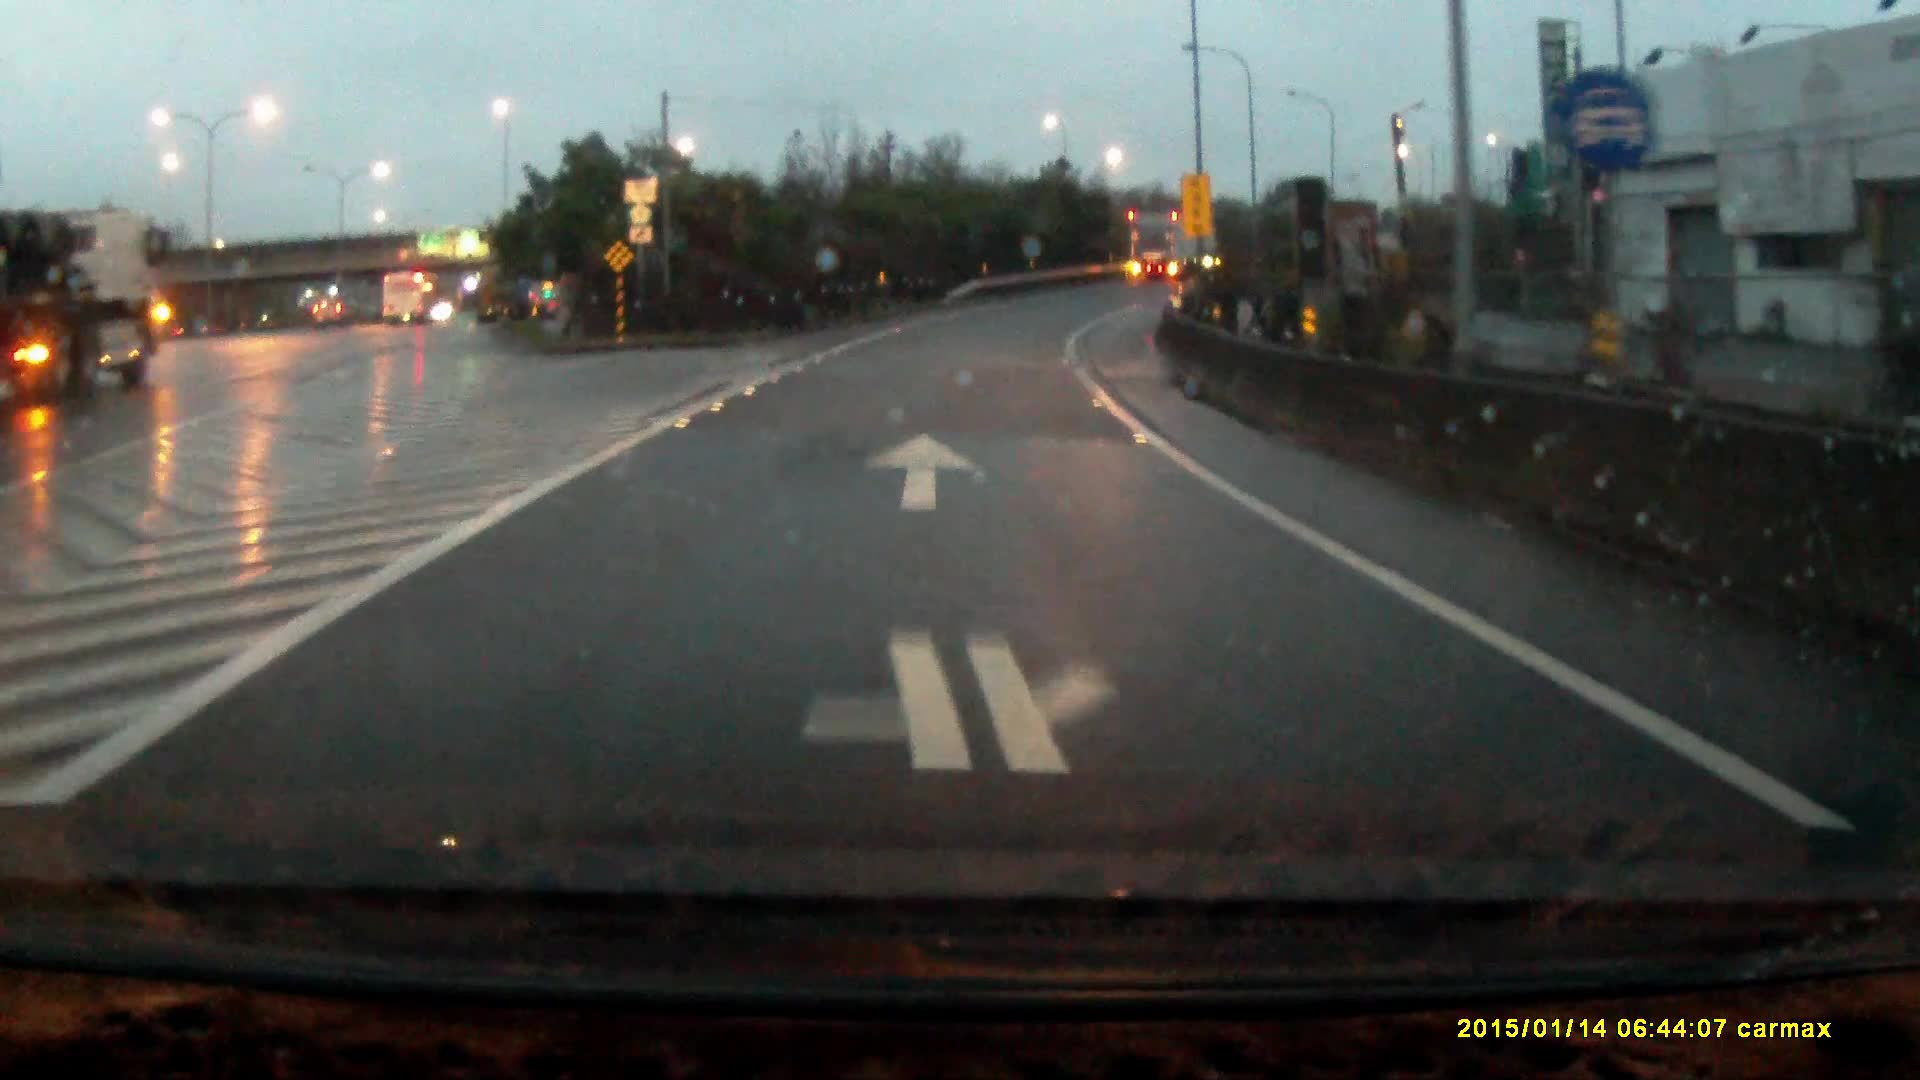vehicle: (1, 206, 169, 405), (1127, 208, 1228, 284), (382, 273, 433, 324), (314, 301, 344, 331)
